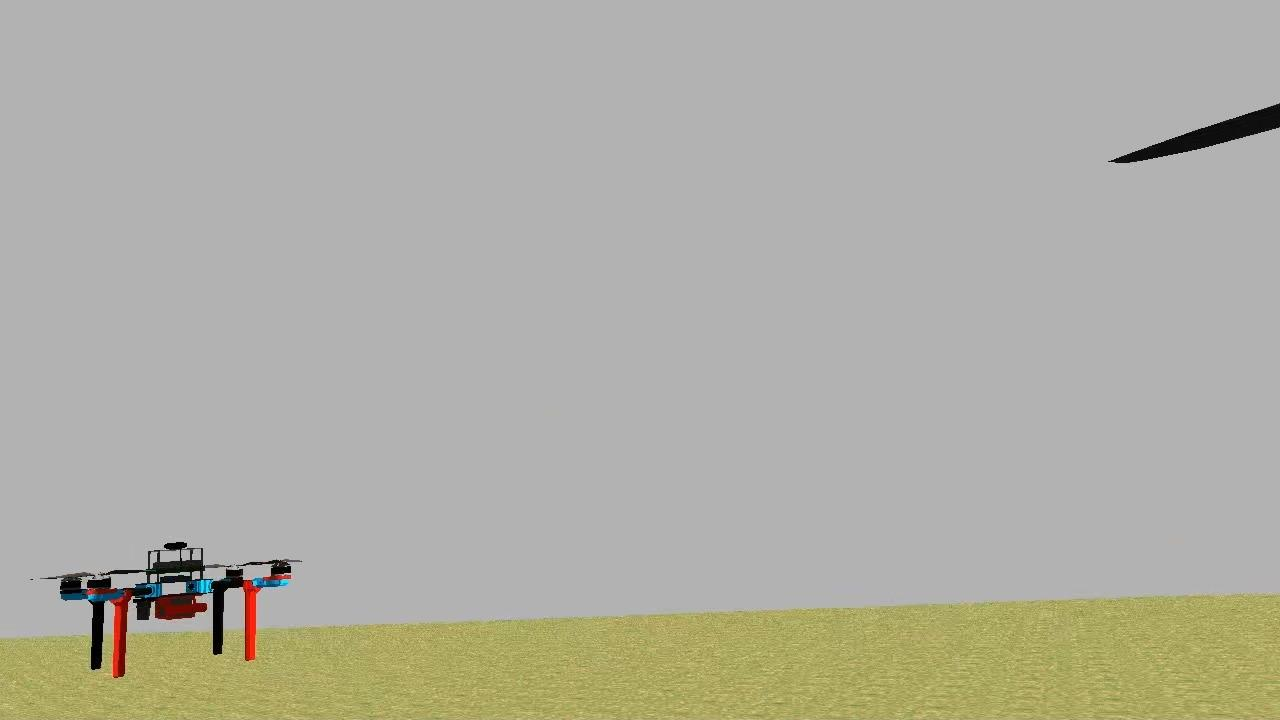UAV: (51, 536, 302, 688)
